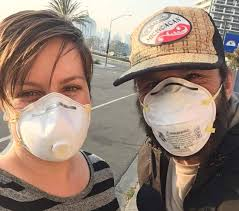n95: (140, 75, 217, 152), (14, 88, 89, 163)
